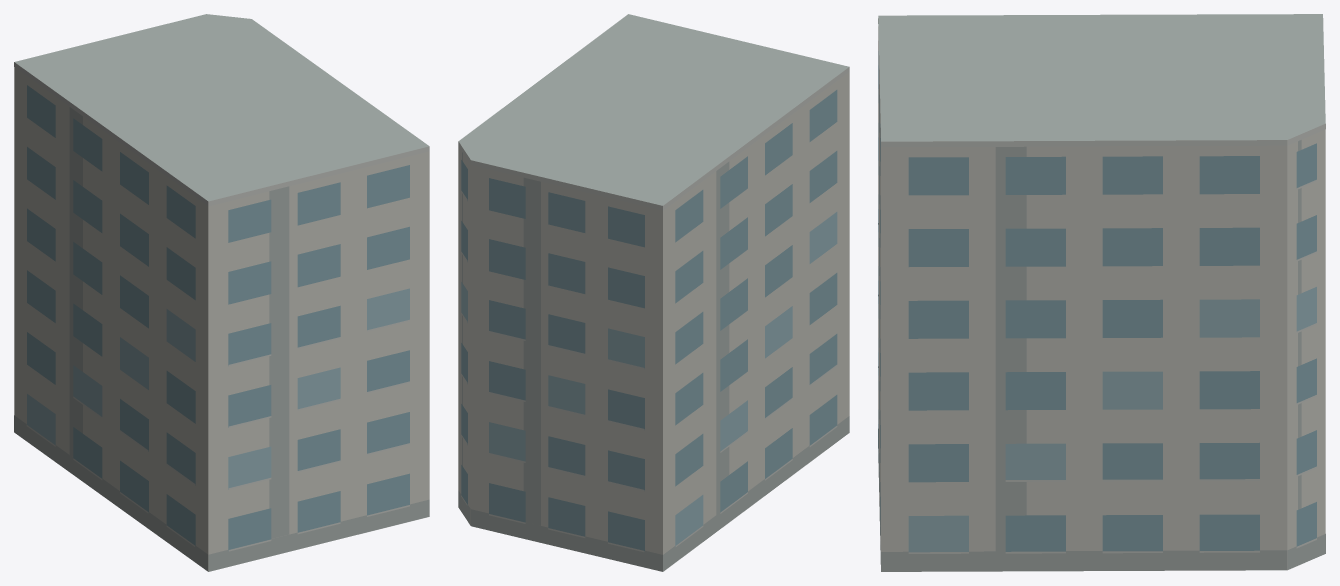
File: survey-upis-32748507.glb
3 renders of one model, left to right at view 1: azimuth 30°, elevation 25°; view 2: azimuth 150°, elevation 25°; view 3: azimuth 270°, elevation 25°, orthographic. The views are drawn at different scales.
Parts seen in each view (by area): view 1: survey-upis-32748507.tmp; view 2: survey-upis-32748507.tmp; view 3: survey-upis-32748507.tmp.
Boxes of the visible parts, left/top/right/bottom form: survey-upis-32748507.tmp: left=14, top=14, right=429, bottom=571; survey-upis-32748507.tmp: left=458, top=14, right=849, bottom=571; survey-upis-32748507.tmp: left=878, top=14, right=1325, bottom=571.
Size of the model in its own units: 11.66 by 18.3 by 17.26.
